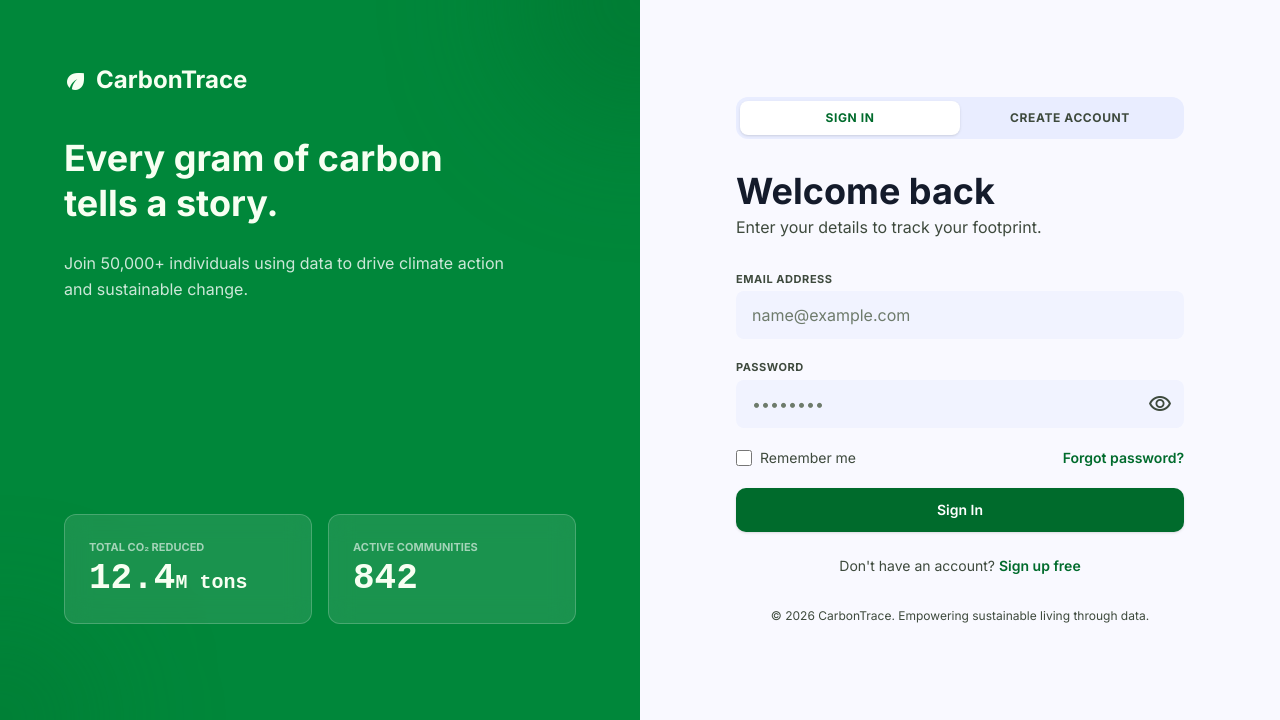
Test case: RegisterForm › renders all registration fields
This screenshot has width=1280, height=720.
Step 1. Click the tab "Create Account" → click(1070, 118), box left=960, top=100, right=1180, bottom=134
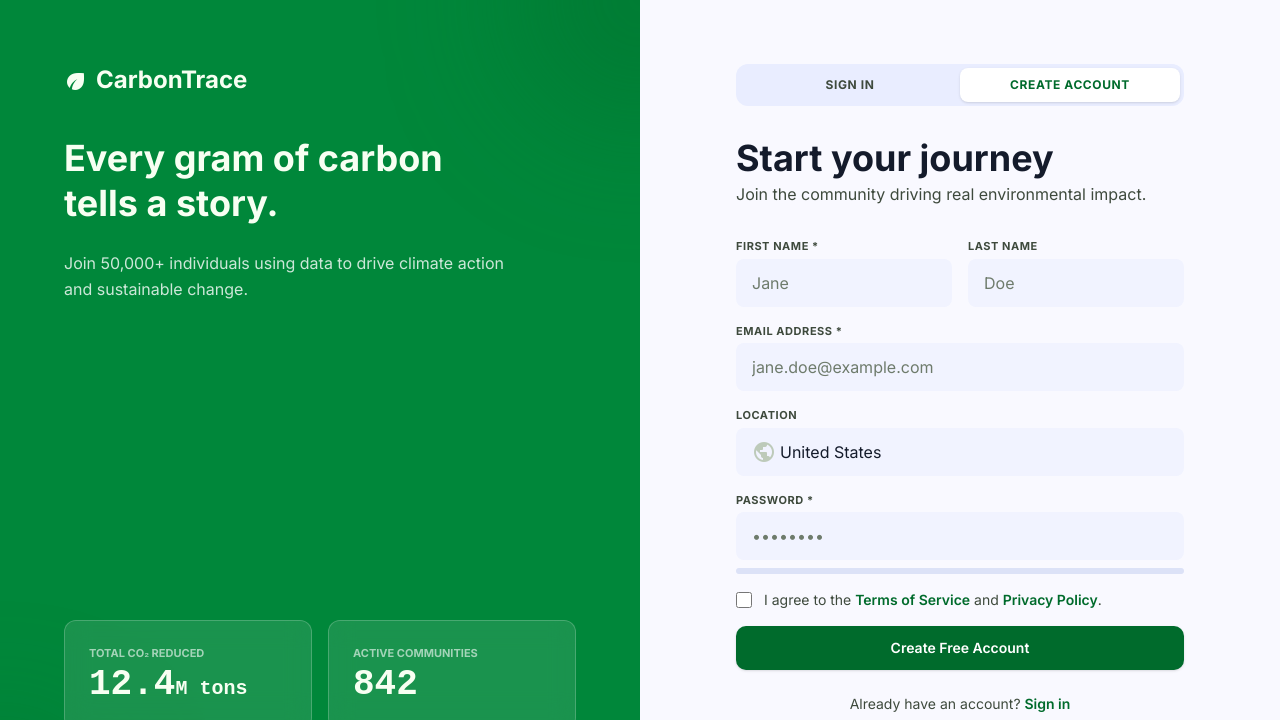
Check: the field labelled "First Name *" is shown, box left=736, top=258, right=952, bottom=306
Check: the field labelled "Email Address *" is shown, box left=736, top=343, right=1184, bottom=391
Check: the password field labelled "Password *" is shown, box left=736, top=512, right=1184, bottom=560
